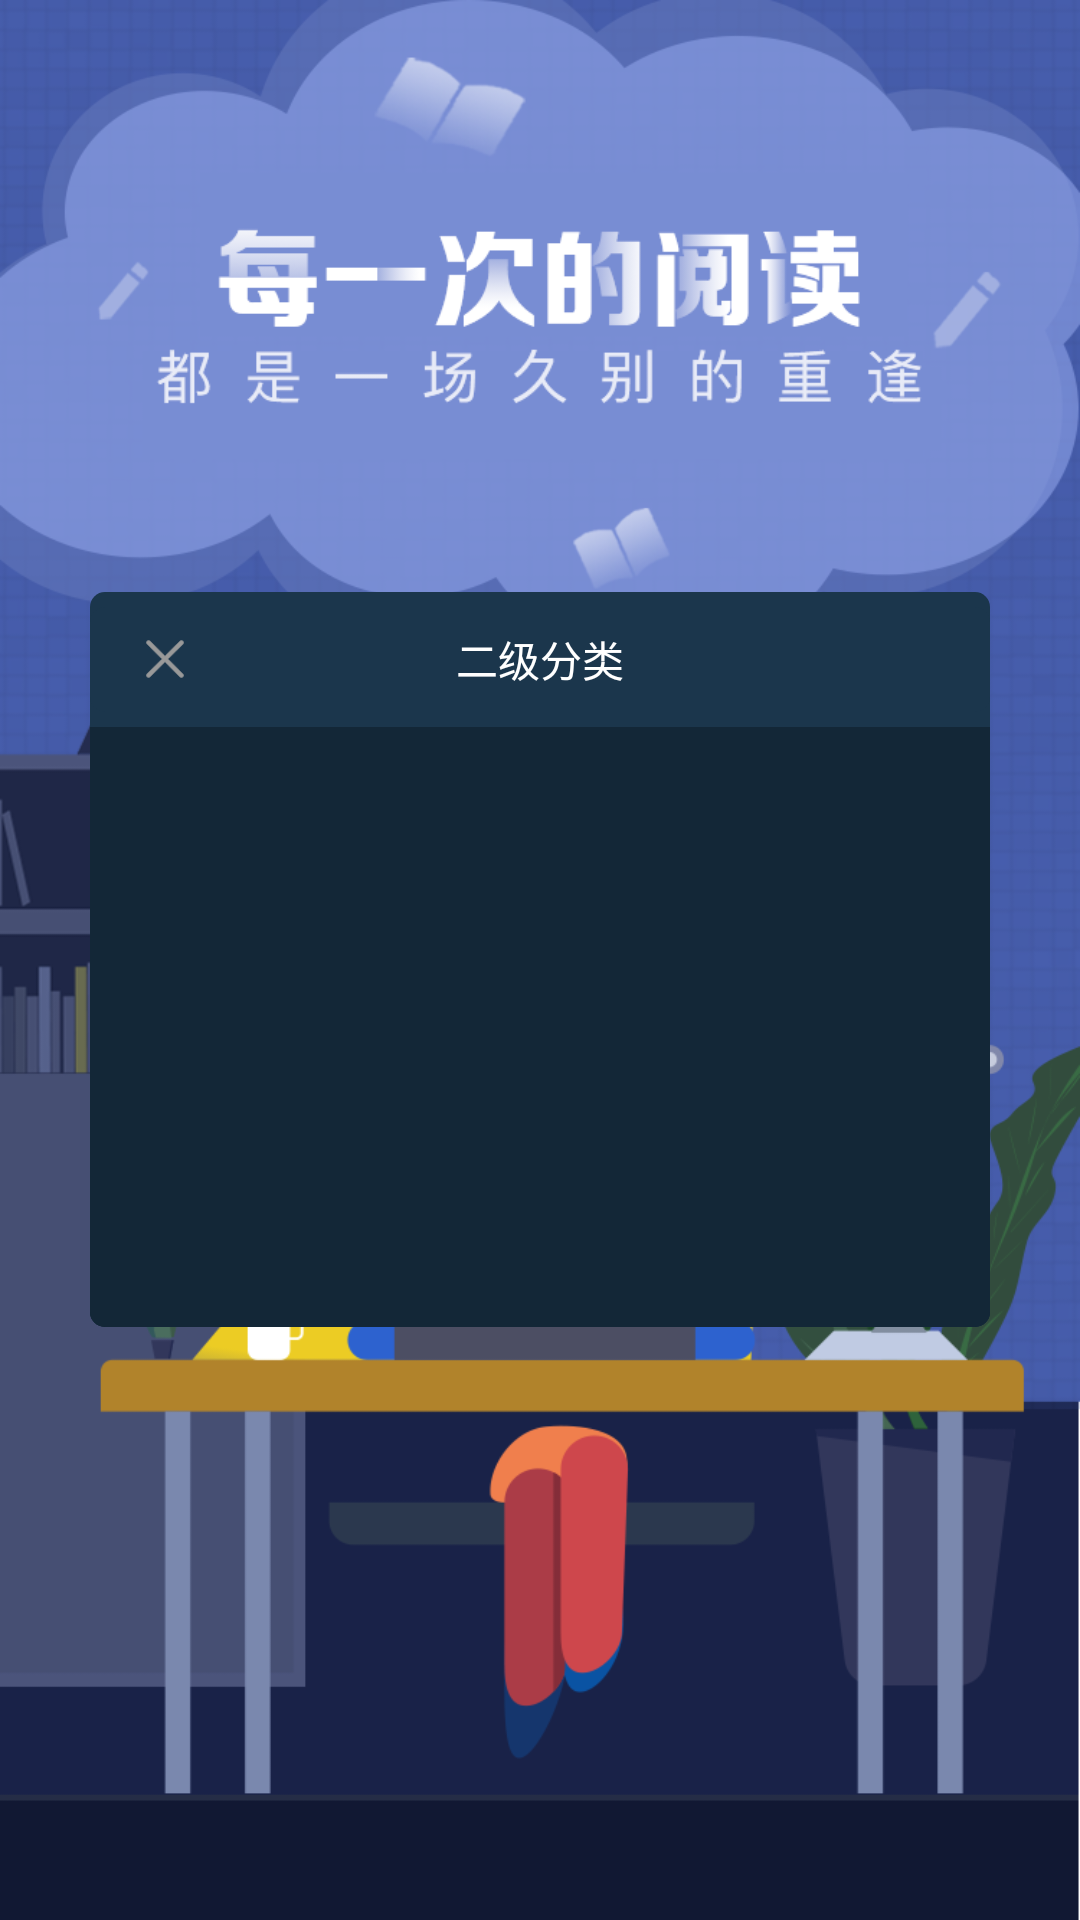

Icons on this 1080px×1920px Android screen, each with the point to tap as point (x, y):
close: point (165, 659)
